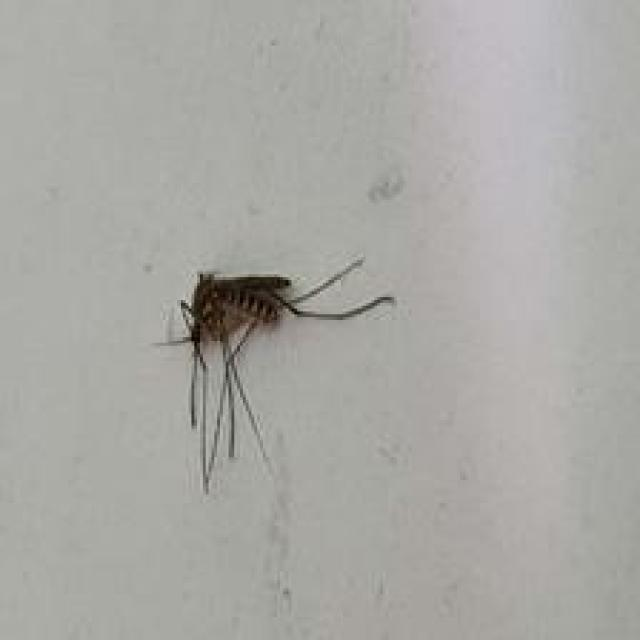Culex: (153, 253, 396, 496)
